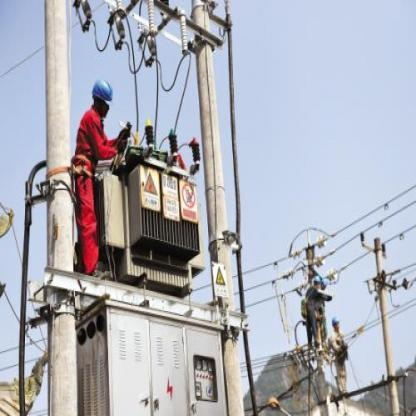helmet: (89, 74, 114, 120), (330, 314, 343, 332), (313, 272, 323, 291)
